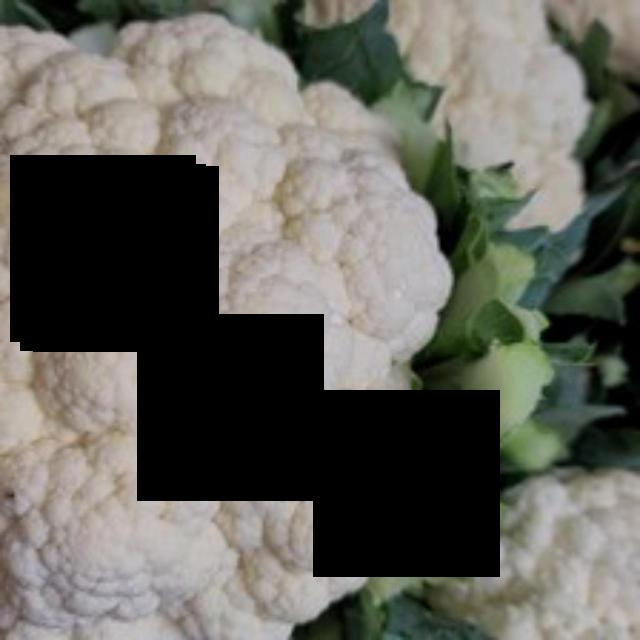cauliflower: (0, 14, 466, 637)
